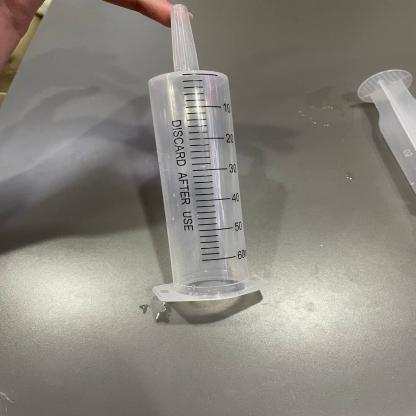wet: (124, 1, 279, 308)
